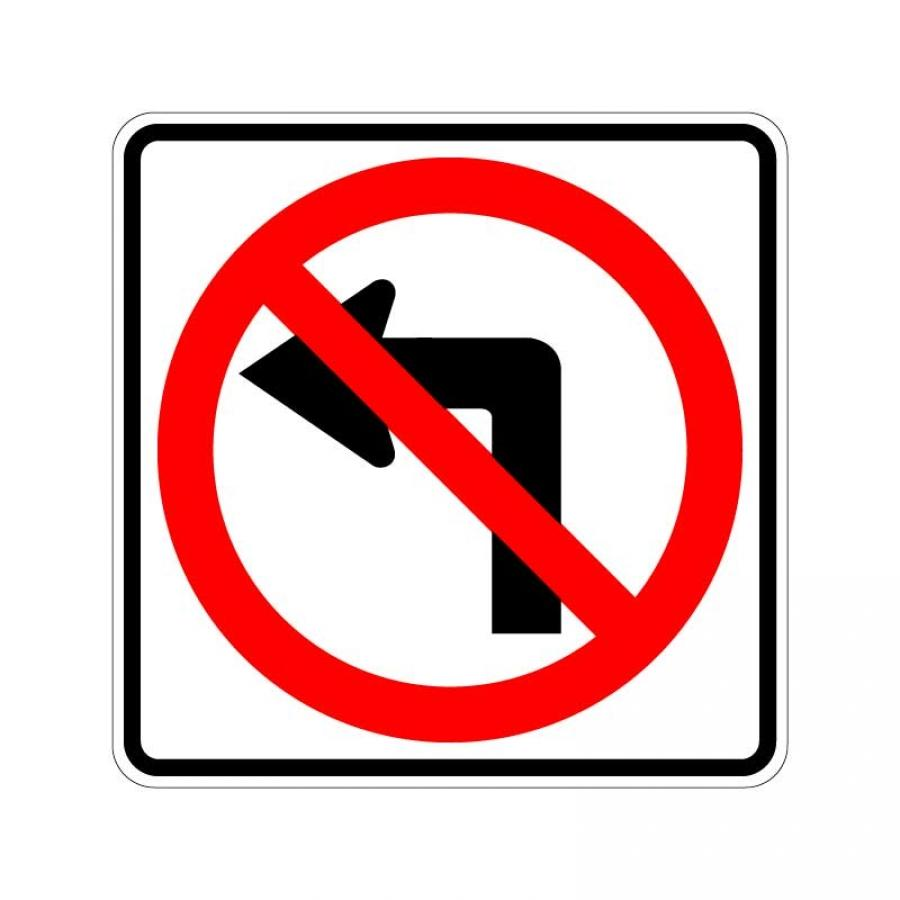no_left_turn: (155, 160, 743, 743)
